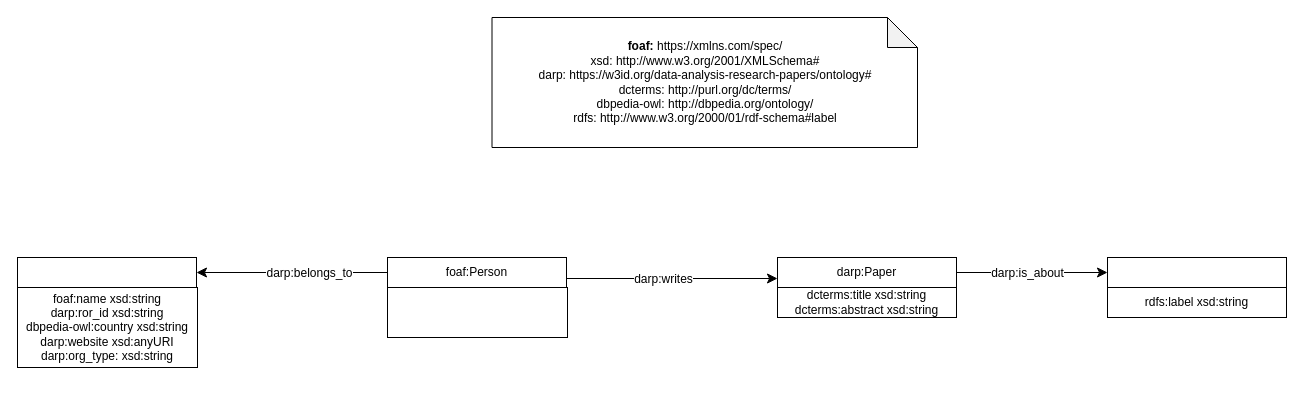
Image size: 1304x410. Some labels were removed from this diagram. Here are the shapes that lost their labels. From the top down, the centre of each, then its label:
At [106,272]: "foaf:Organization".
At [1196,272]: "foaf:Topic".
At [477,312]: "foaf:name xsd:string darp:orcid xsd:string darp:twitter_username xsd:string".
